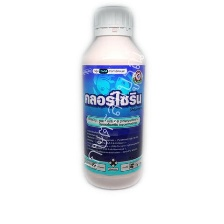insecticide: (74, 1, 148, 194)
